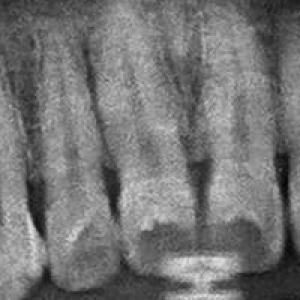tooth: (94, 2, 198, 250), (39, 18, 121, 294), (204, 17, 281, 249)
